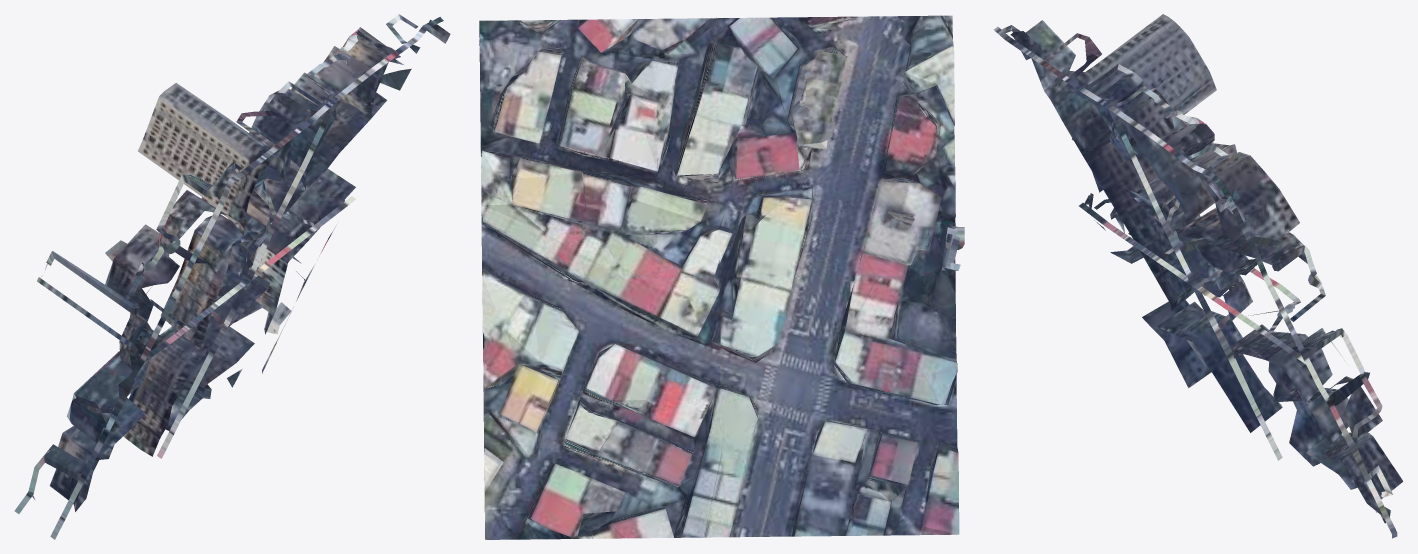
The picture shows the model from 3 angles, left to right: view 1: azimuth 30°, elevation 25°; view 2: azimuth 150°, elevation 25°; view 3: azimuth 270°, elevation 25°; orthographic projection. The views are drawn at different scales.
Bounding box in the file's own units: 161 × 147 × 130.
1 material, 1 textured.
